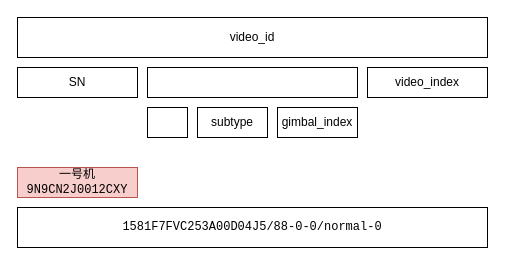
This 505x265 diagram has some shape labels left out. Each missing label, with the centre of its shape:
camera_index: the point at 252,82
type: the point at 167,122
